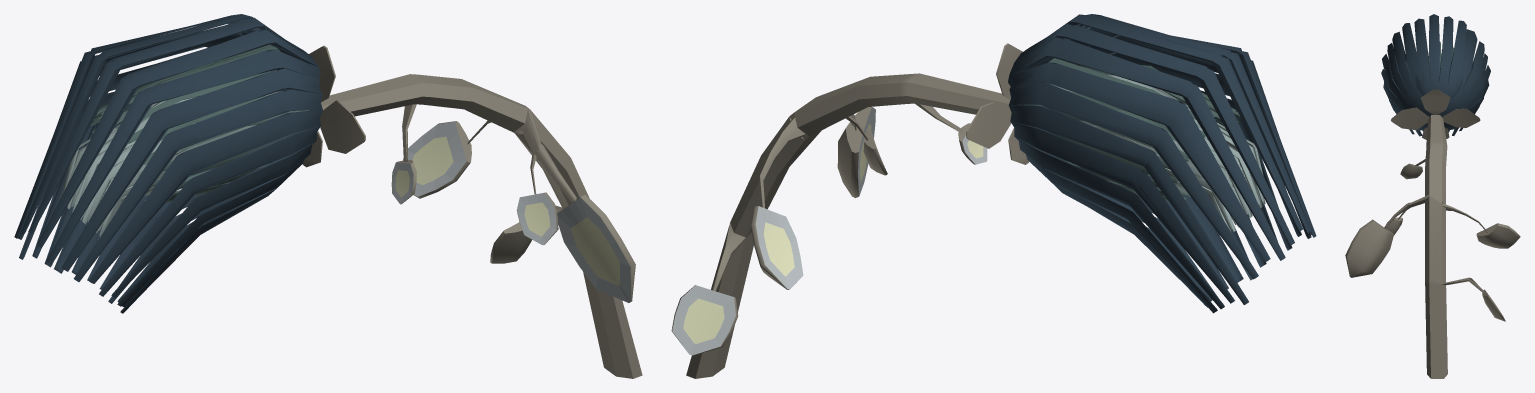
Rendered from Planta Morta_8H.fbx.
3 views of the same model, side by side, from view 1: azimuth 30°, elevation 25°; view 2: azimuth 150°, elevation 25°; view 3: azimuth 270°, elevation 25° (orthographic). The views are drawn at different scales.
Parts seen in each view (by area): view 1: pCylinder6, pCube4, pCube5, pCube8, pCylinder5, pCylinder1, pCube6, pCube7, pCube2; view 2: pCylinder6, pCube4, pCube7, pCube8, pCylinder1, pCylinder5, pCube5, pCube2, pCube6; view 3: pCylinder6, pCube4, pCube5, pCube8, pCube2, pCube7, pCube6.
Part boxes in pixels (bbox=[...]): pCylinder6: bbox=[14, 14, 322, 313]; pCube4: bbox=[302, 45, 642, 378]; pCube5: bbox=[557, 194, 635, 302]; pCube8: bbox=[402, 121, 471, 198]; pCylinder5: bbox=[91, 44, 310, 202]; pCylinder1: bbox=[60, 91, 291, 236]; pCube6: bbox=[516, 192, 558, 245]; pCube7: bbox=[490, 222, 531, 263]; pCube2: bbox=[391, 160, 416, 204]; pCylinder6: bbox=[1008, 14, 1316, 313]; pCube4: bbox=[686, 43, 1029, 378]; pCube7: bbox=[671, 285, 738, 355]; pCube8: bbox=[750, 206, 803, 289]; pCylinder1: bbox=[1018, 74, 1265, 231]; pCylinder5: bbox=[1019, 58, 1240, 202]; pCube5: bbox=[837, 106, 875, 197]; pCube2: bbox=[958, 123, 987, 164]; pCube6: bbox=[863, 129, 887, 175]; pCylinder6: bbox=[1381, 14, 1490, 136]; pCube4: bbox=[1384, 89, 1487, 378]; pCube5: bbox=[1345, 219, 1393, 277]; pCube8: bbox=[1476, 223, 1520, 248]; pCube2: bbox=[1400, 163, 1422, 179]; pCube7: bbox=[1482, 289, 1505, 321]; pCube6: bbox=[1386, 217, 1402, 235].
Size of the model in its own units: 951 by 663 by 453.
